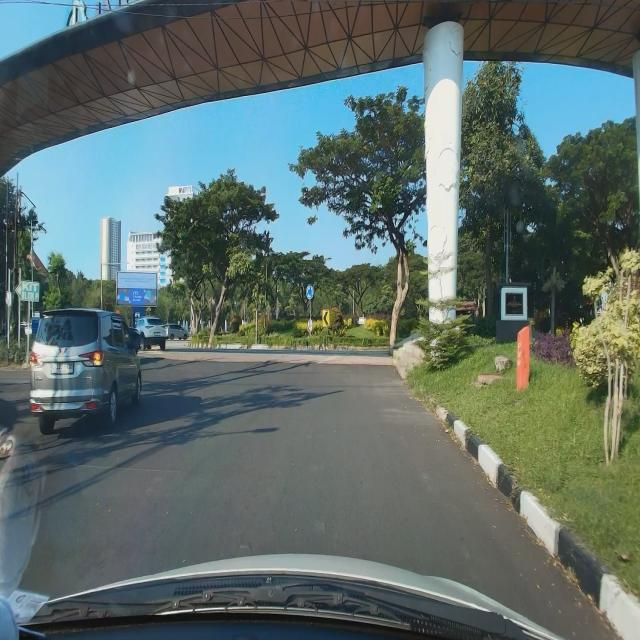car: (28, 302, 146, 435), (134, 309, 168, 356)
license-plate: (51, 362, 74, 374)
